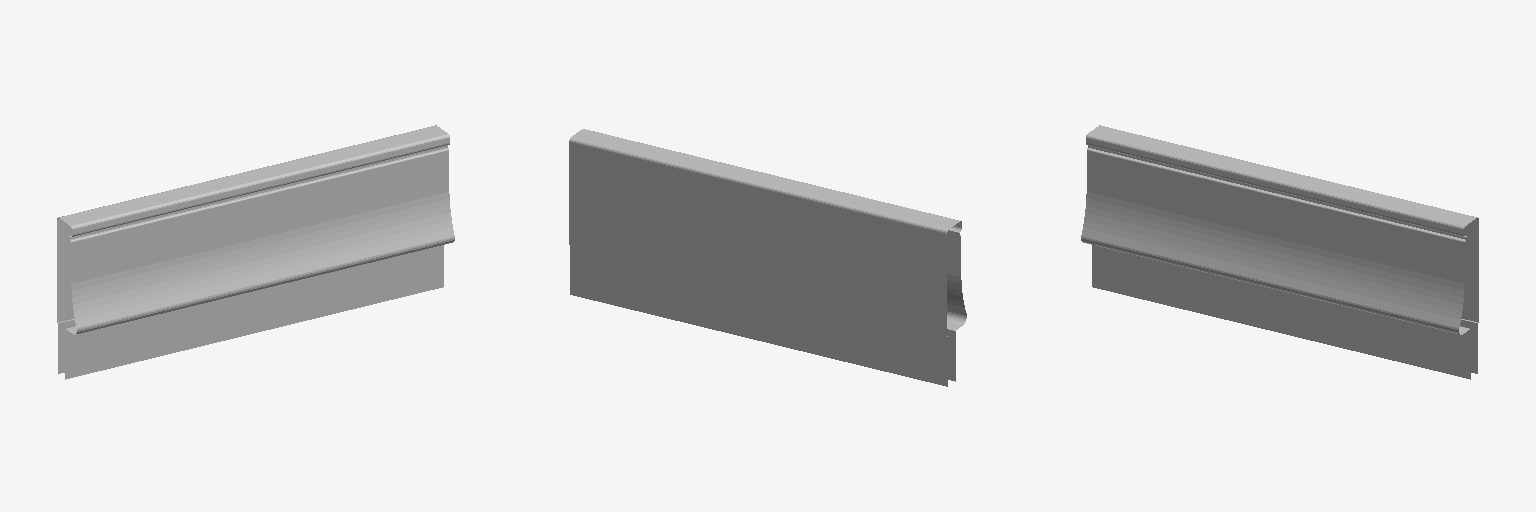
File: original-29.obj
3 views of the same model, side by side, from view 1: azimuth 30°, elevation 25°; view 2: azimuth 150°, elevation 25°; view 3: azimuth 330°, elevation 25° (orthographic).
Parts seen in each view (by area): view 1: TB_11_CL1/TB_11_CL/mesh18/mesh18-geometry#mesh18-geometry; view 2: TB_11_CL1/TB_11_CL/mesh18/mesh18-geometry#mesh18-geometry; view 3: TB_11_CL1/TB_11_CL/mesh18/mesh18-geometry#mesh18-geometry.
Part boxes in pixels (x1,y1,x2,y2): TB_11_CL1/TB_11_CL/mesh18/mesh18-geometry#mesh18-geometry: (57,125,454,379); TB_11_CL1/TB_11_CL/mesh18/mesh18-geometry#mesh18-geometry: (569,129,966,386); TB_11_CL1/TB_11_CL/mesh18/mesh18-geometry#mesh18-geometry: (1081,125,1478,379).
Size of the model in its own units: 0.3585 by 0.1422 by 0.0323.